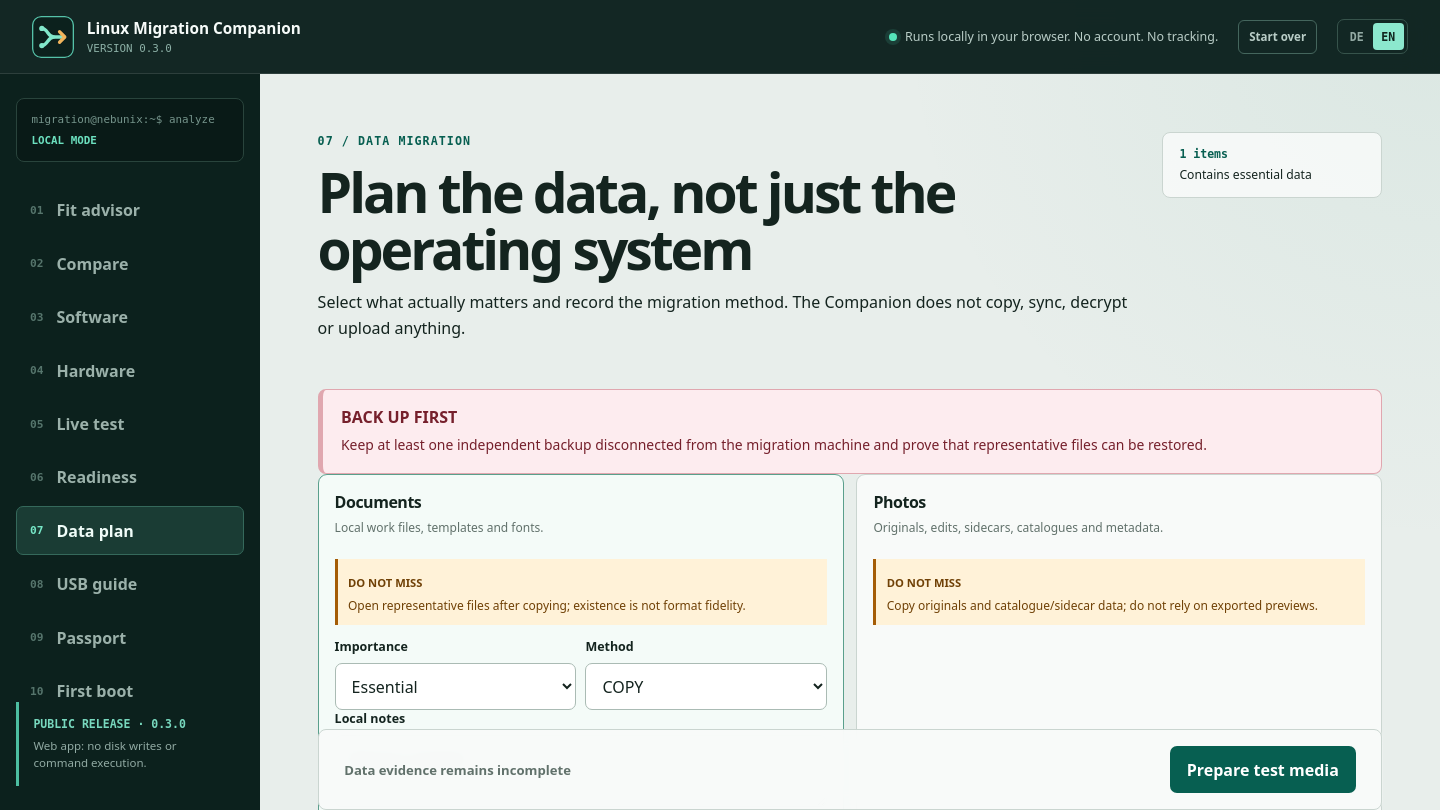
public release application flow › cancels reset without changing state and returns focus to Start over
Click the button "Start over". click: (1278, 36)
box: [1238, 20, 1317, 54]
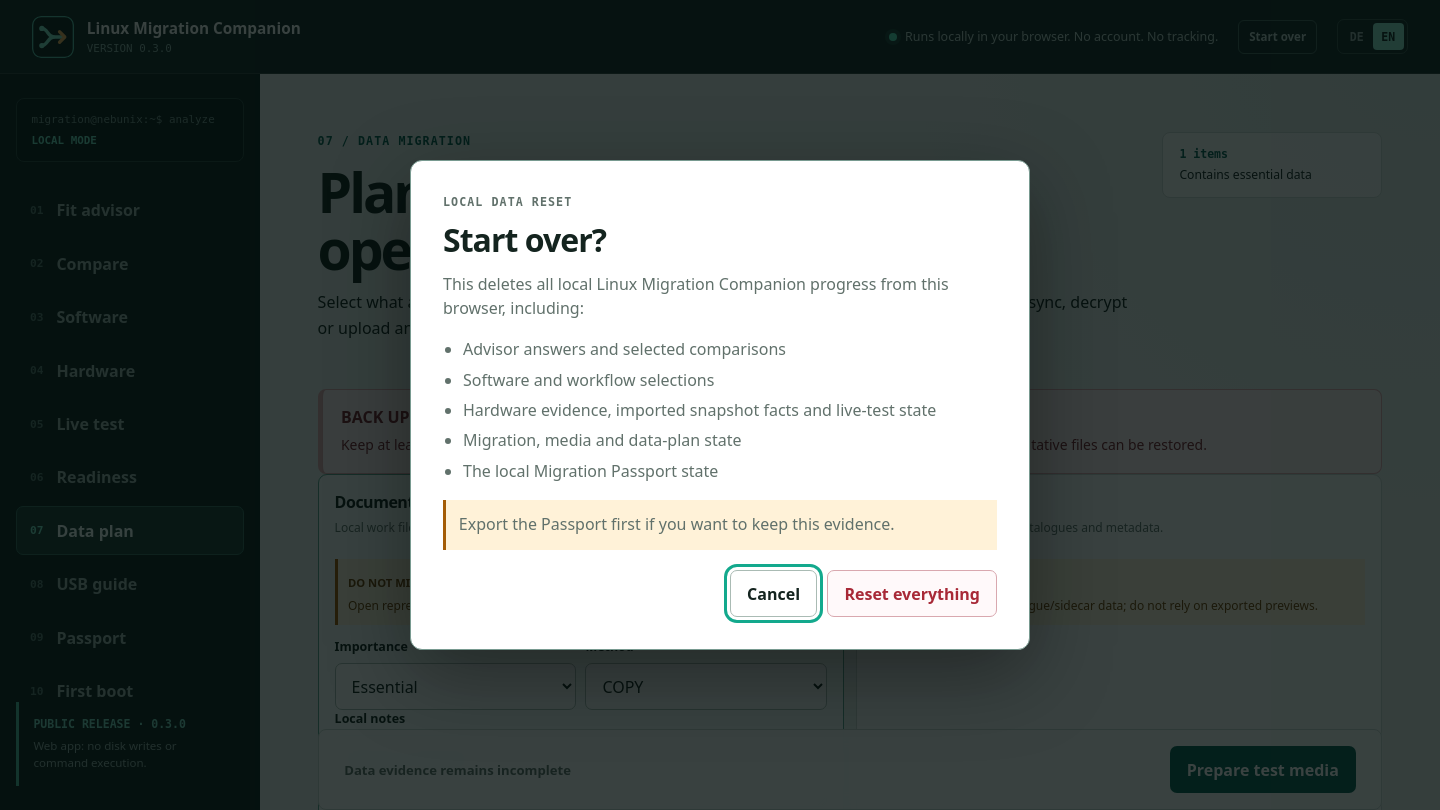
Click the button "Cancel". click: (774, 594)
box: [730, 570, 817, 617]
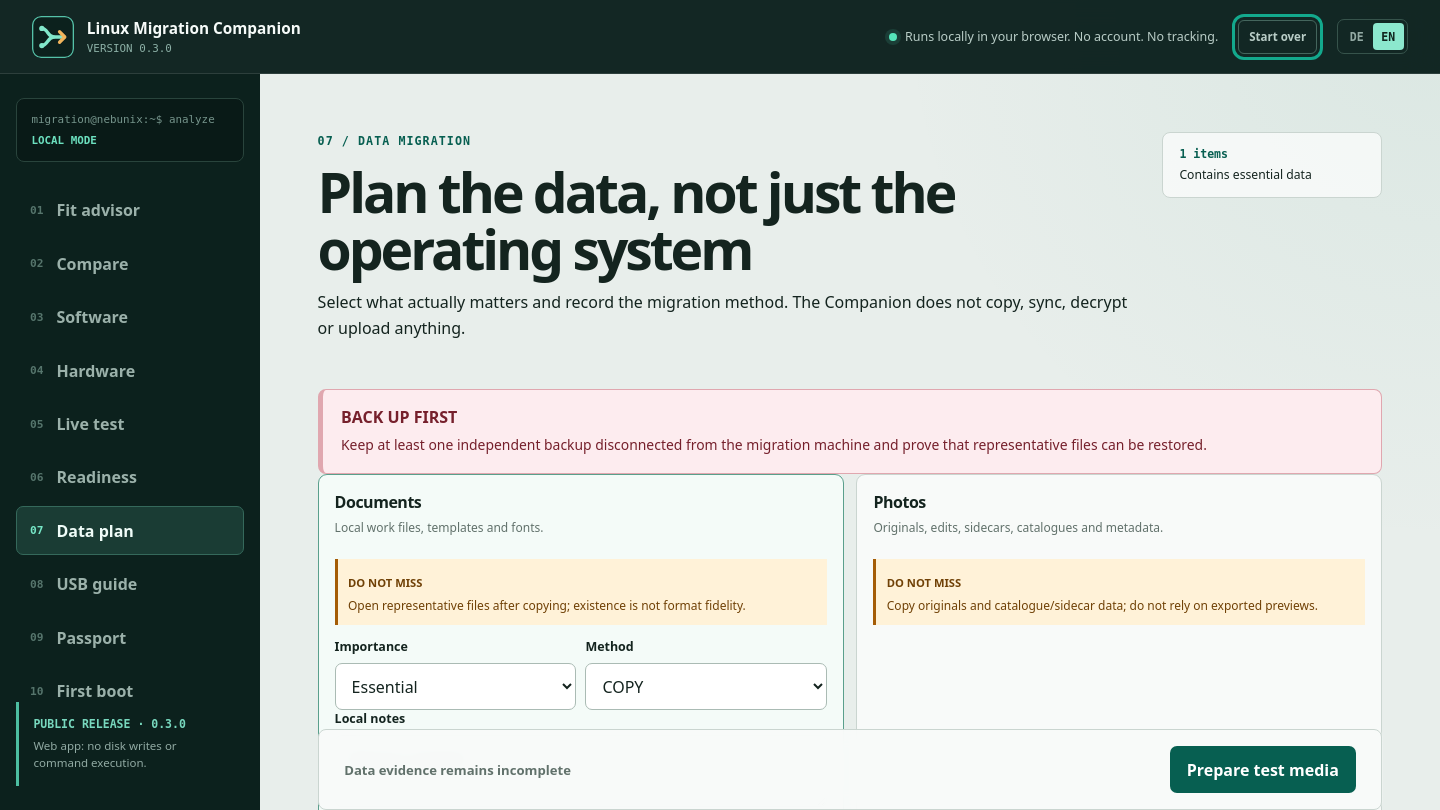
Expected: the heading "Plan the data, not just the operating system" is shown, [318, 154, 954, 286]
Now the dialog is gone
